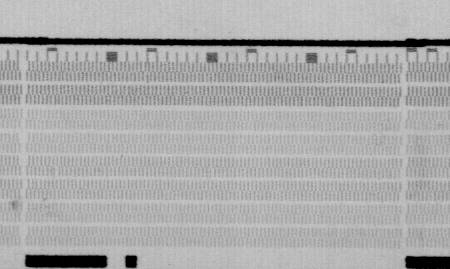Oblique printing: (49, 167, 61, 180), (141, 72, 152, 85)
